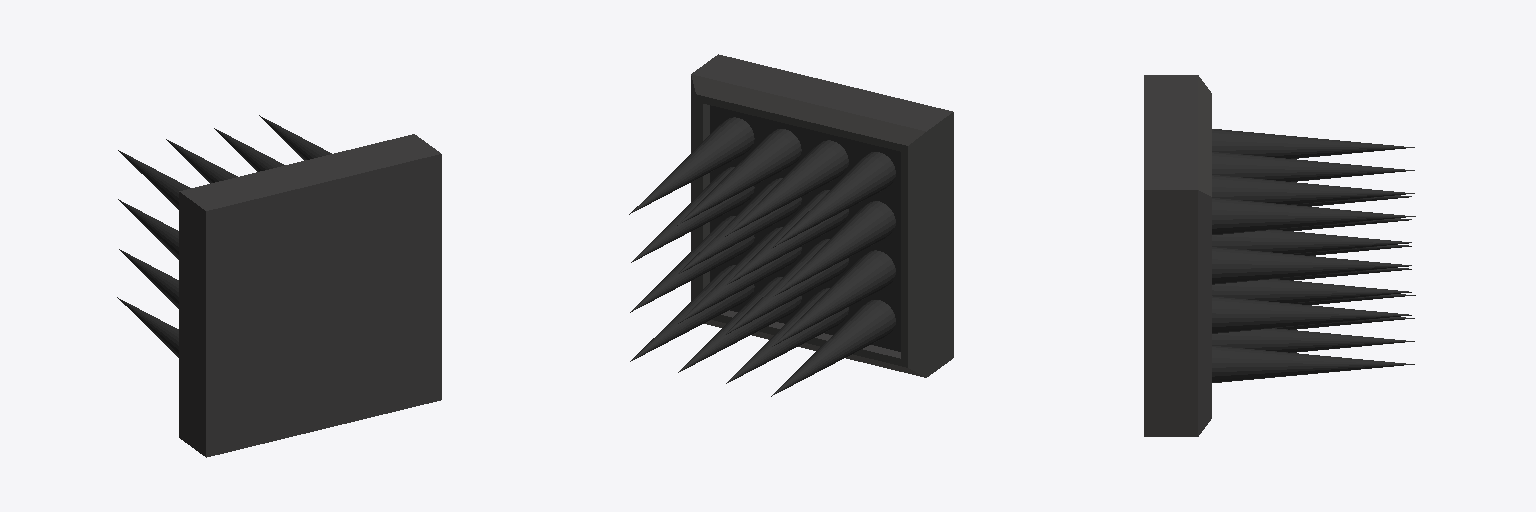
The model's file is The_Spikes.obj.
The picture shows the model from 3 angles: view 1: azimuth 30°, elevation 25°; view 2: azimuth 150°, elevation 25°; view 3: azimuth 270°, elevation 25°; orthographic projection.
Parts seen in each view (by area): view 1: Mesh1 The_Spikes1 Model; view 2: Mesh1 The_Spikes1 Model; view 3: Mesh1 The_Spikes1 Model.
Boxes of the visible parts, x1,y1,x2,y2 form: Mesh1 The_Spikes1 Model: [117, 115, 441, 457]; Mesh1 The_Spikes1 Model: [629, 54, 953, 396]; Mesh1 The_Spikes1 Model: [1144, 75, 1415, 436].
Size of the model in its own units: 1 by 1 by 1.